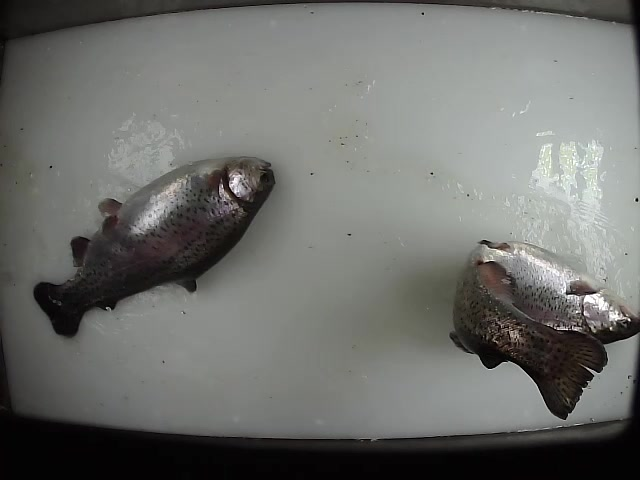Fish: (33, 155, 276, 337), (448, 239, 639, 420)
